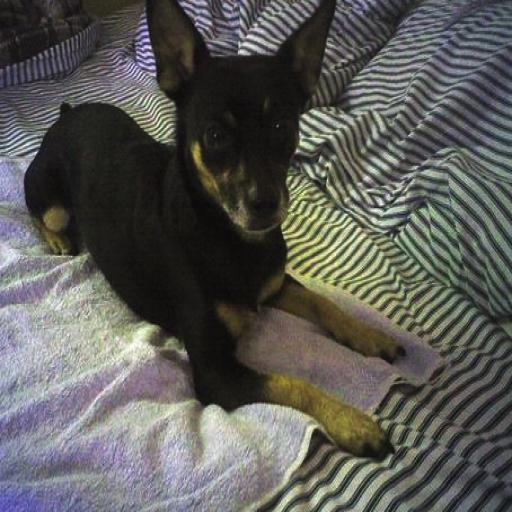dog_face: (143, 0, 335, 245)
